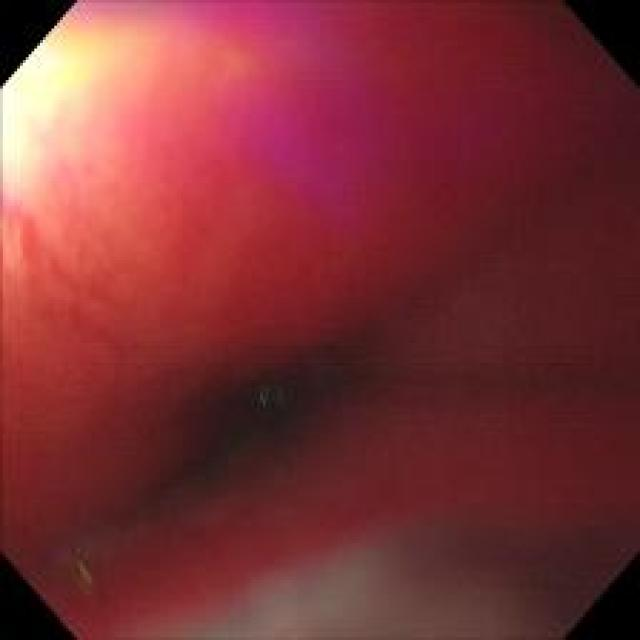color misalignment: (8, 9, 630, 626), (118, 31, 615, 195), (212, 510, 632, 626), (248, 380, 294, 424), (74, 549, 95, 585)
contrast: (131, 310, 376, 538)
saturation: (5, 26, 104, 162)
